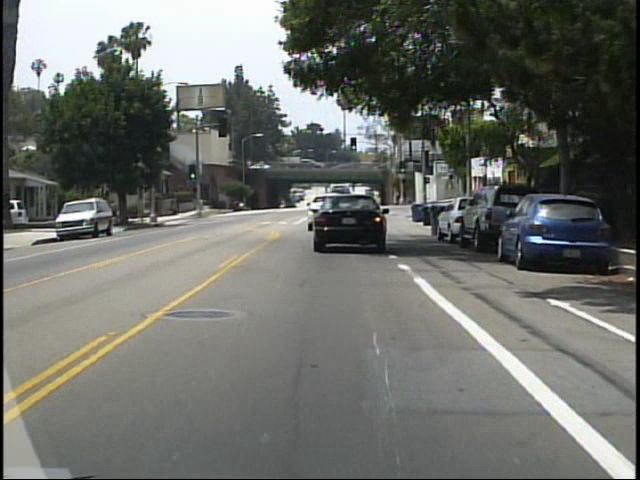person: (111, 199, 120, 225)
